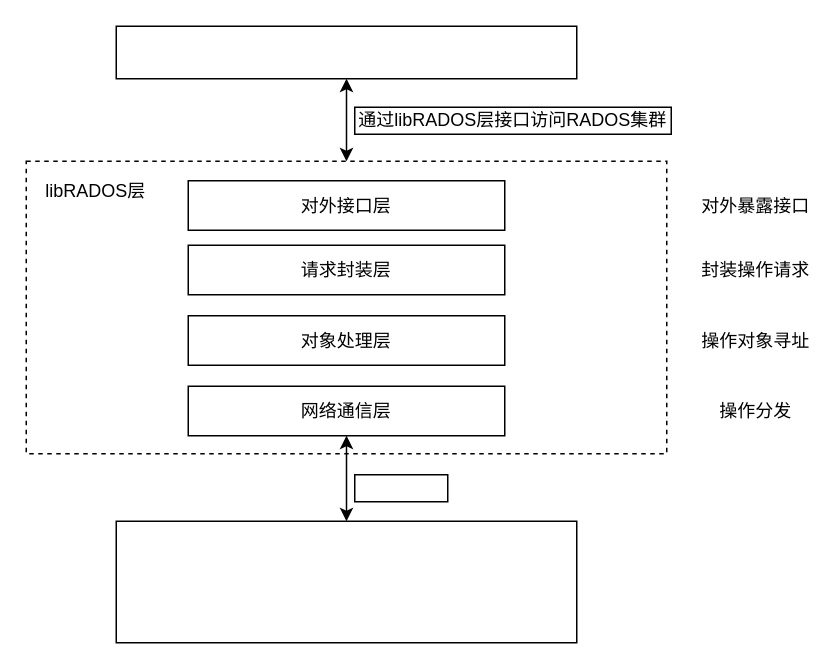
The diagram is 839 pixels wide and 669 high, and some of its shapes have lost their labels. The centre of each missing label's shape, as x and y in pixels:
"RADOS集群" belongs at [346,581].
"上层应用" belongs at [346,52].
"网络通信" belongs at [400,487].
